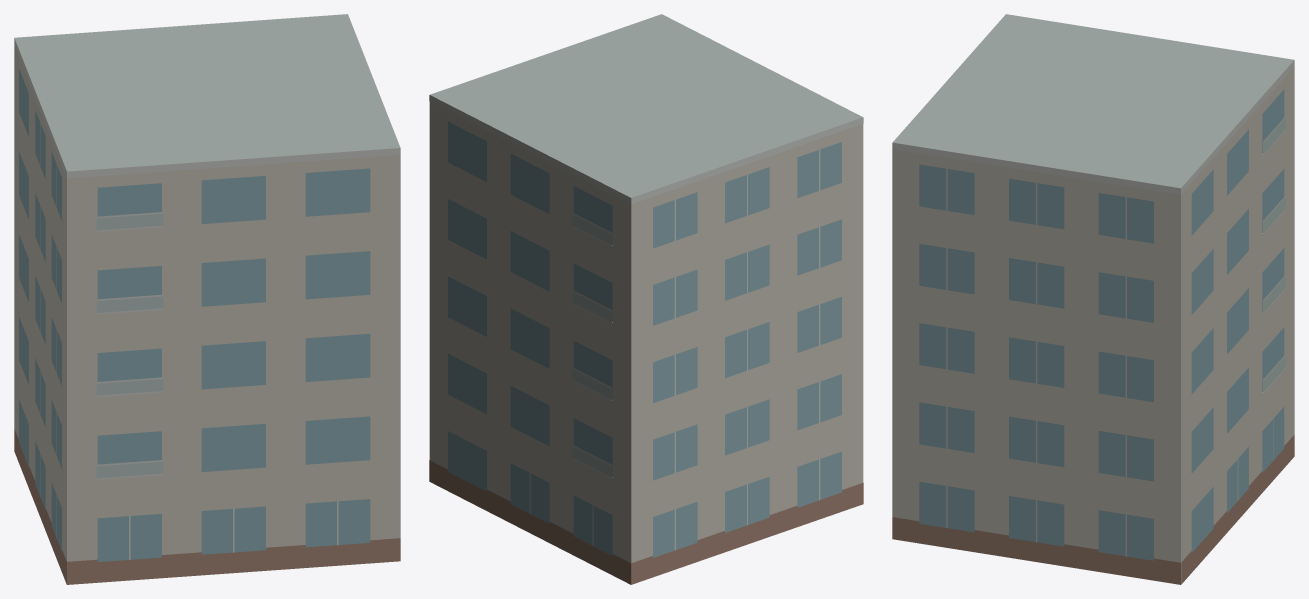
File: survey-upis-32874198.glb
3 views of the same model, side by side, from view 1: azimuth 30°, elevation 25°; view 2: azimuth 150°, elevation 25°; view 3: azimuth 270°, elevation 25° (orthographic). The views are drawn at different scales.
Parts seen in each view (by area): view 1: survey-upis-32874198.tmp; view 2: survey-upis-32874198.tmp; view 3: survey-upis-32874198.tmp.
Part boxes in pixels (x1=…): survey-upis-32874198.tmp: x1=14, y1=14, x2=400, y2=584; survey-upis-32874198.tmp: x1=429, y1=14, x2=863, y2=584; survey-upis-32874198.tmp: x1=892, y1=14, x2=1294, y2=584.
Size of the model in its own units: 13.82 by 14.65 by 13.47.
